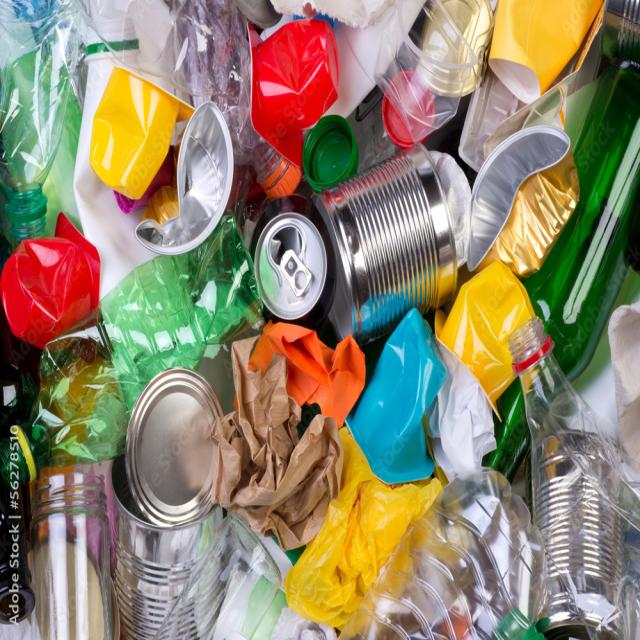glass: (540, 59, 610, 374)
metal: (124, 370, 224, 605), (342, 154, 453, 332), (538, 448, 614, 604), (254, 218, 324, 310)
plastic: (126, 226, 245, 396), (34, 442, 127, 626), (5, 217, 121, 337), (98, 74, 182, 175)
